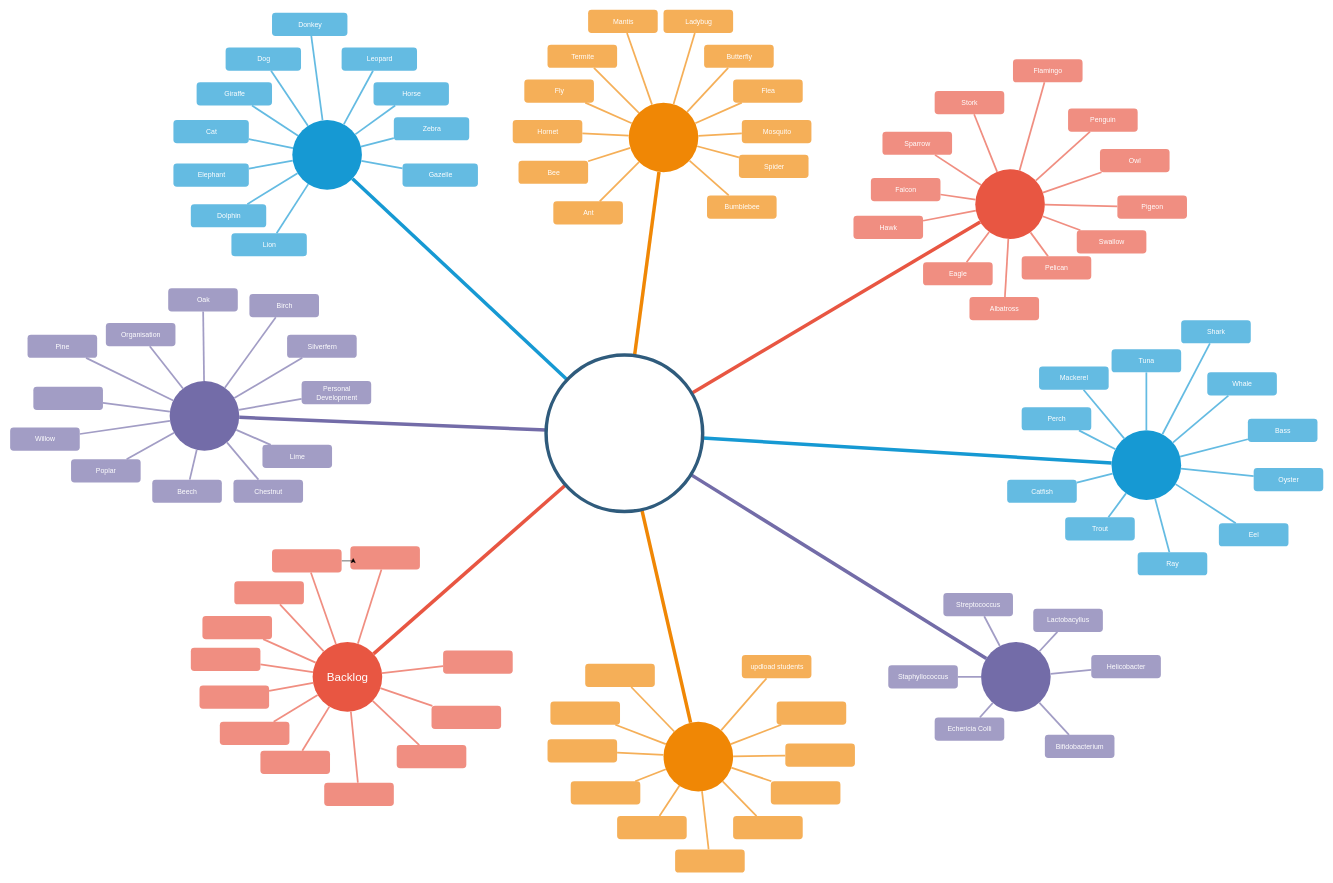
Some shapes in this 1333 by 883 pixel diagram are drawn without their labels. The centre of each missing label's shape, as x and y in pixels:
Acacia: (x=68, y=398)
Add entity: (x=663, y=137)
Admin epic: (x=624, y=433)
Change entity: (x=1146, y=465)
Data Exchange: (x=698, y=756)
DataEx->Export attendance: (x=385, y=557)
Export Results: (x=306, y=560)
Remove entity: (x=1010, y=204)
View Entity: (x=1015, y=676)
